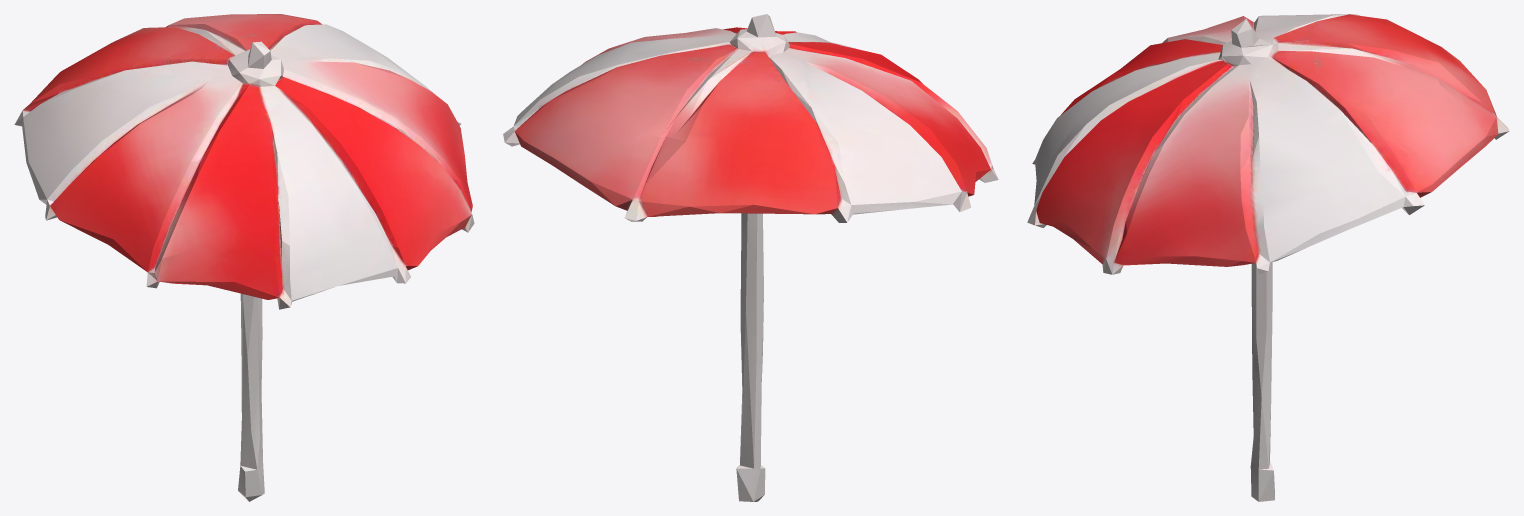
The model's file is umbrella.glb.
The picture shows the model from 3 angles, left to right: view 1: azimuth 30°, elevation 25°; view 2: azimuth 150°, elevation 25°; view 3: azimuth 270°, elevation 25°; orthographic projection. The views are drawn at different scales.
Parts seen in each view (by area): view 1: model; view 2: model; view 3: model.
Boxes of the visible parts, left/top/right/bottom form: model: left=14, top=14, right=474, bottom=501; model: left=503, top=14, right=998, bottom=501; model: left=1027, top=14, right=1509, bottom=501.
Size of the model in its own units: 1.78 by 1.9 by 1.74.
1 material, 1 textured.
